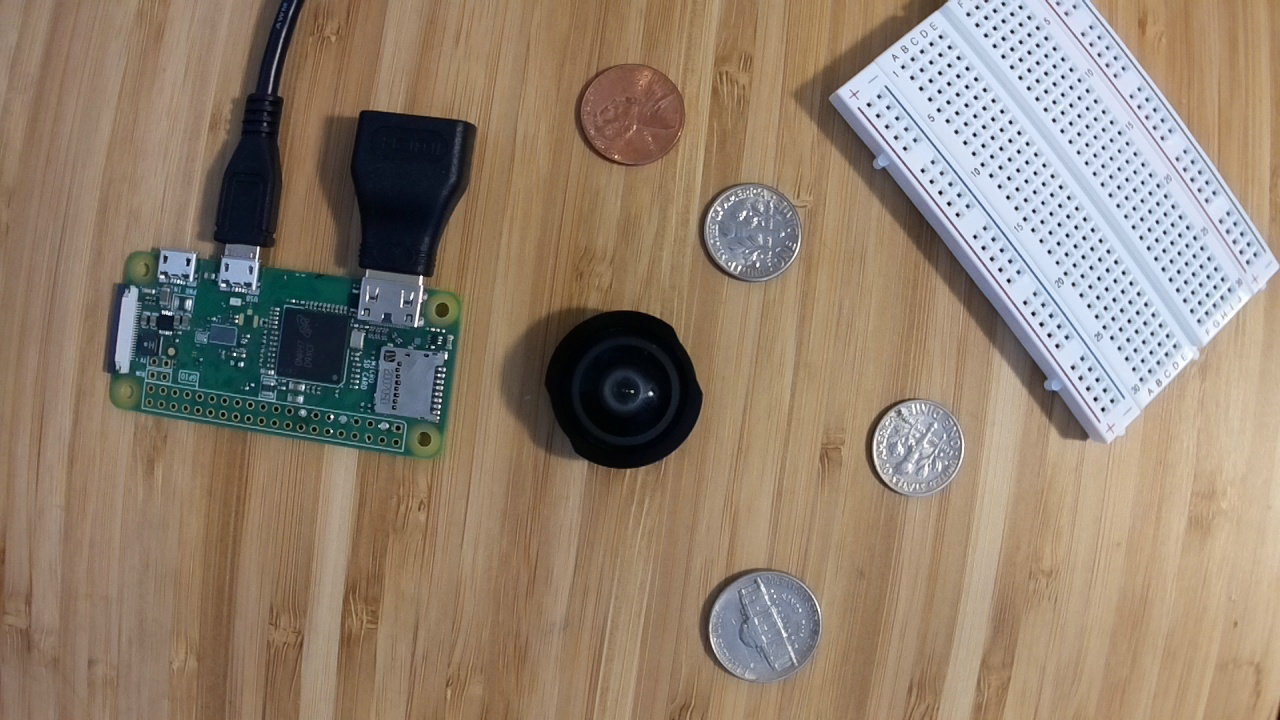dime: (700, 180, 804, 284), (865, 396, 967, 500)
nickel: (696, 566, 828, 684)
penny: (572, 61, 688, 167)
